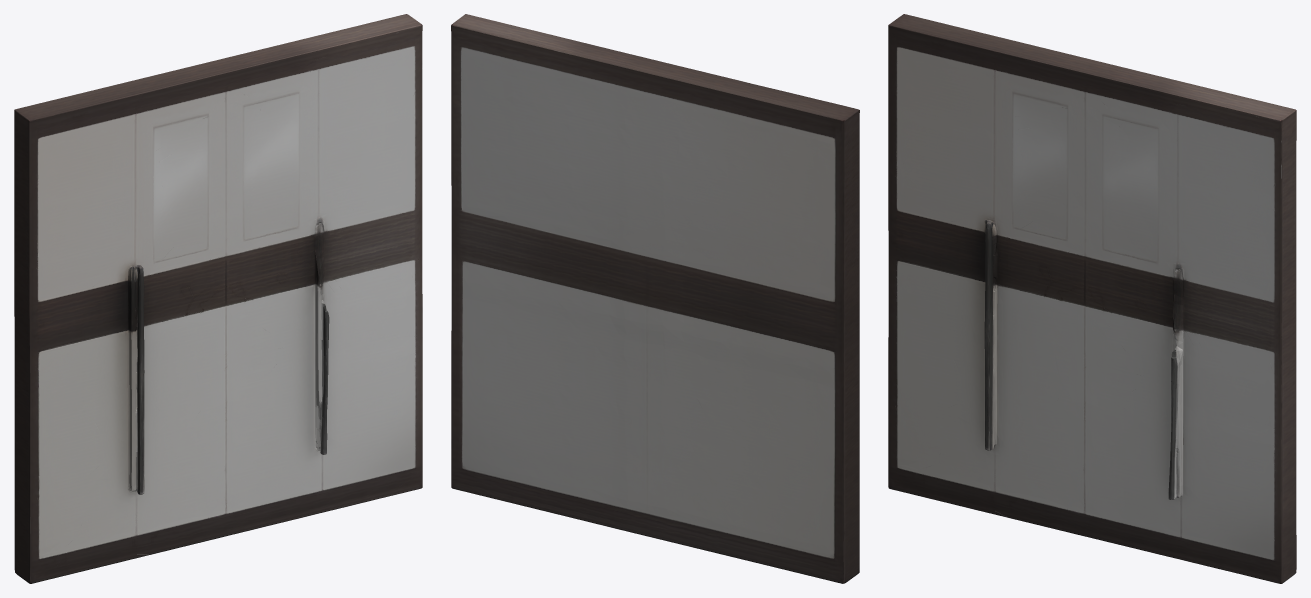
3 renders of one model, left to right at view 1: azimuth 30°, elevation 25°; view 2: azimuth 150°, elevation 25°; view 3: azimuth 330°, elevation 25°, orthographic.
Visible parts, largest first — view 1: world; view 2: world; view 3: world.
Boxes of the visible parts, x1,y1,x2,y2 form: world: (14,14,422,583); world: (451,14,859,583); world: (888,14,1296,583).
Size of the model in its own units: 0.8895 by 1 by 0.0907.
Materials: 1 (1 with a texture image).
